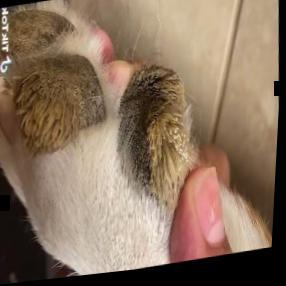keratosis: (104, 58, 213, 228), (4, 48, 116, 166)
